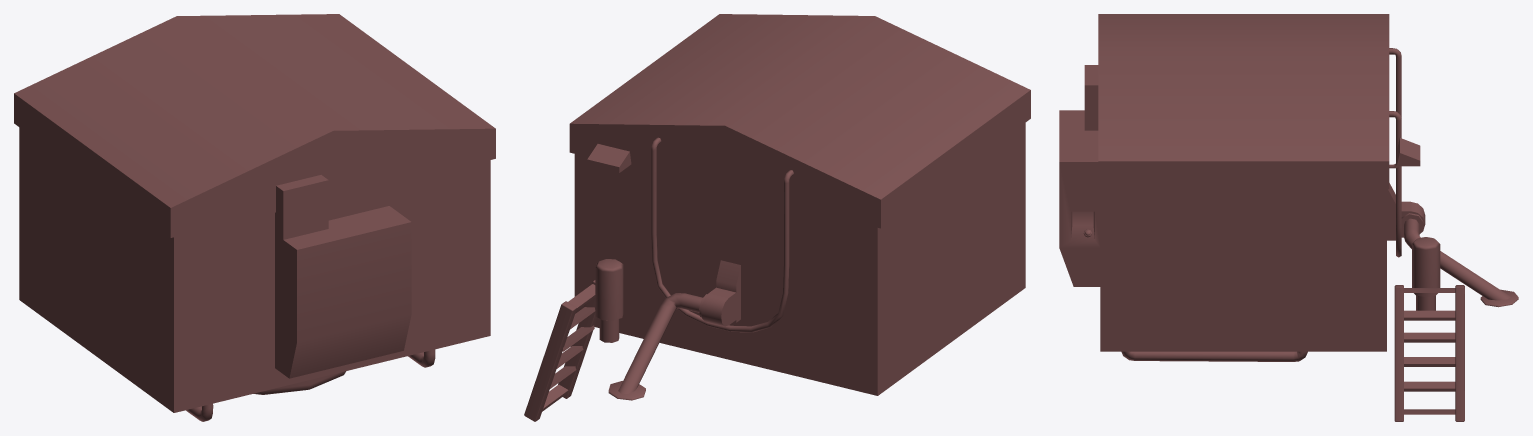
File: SM_Refueler_P2.fbx
3 views of the same model, side by side, from view 1: azimuth 30°, elevation 25°; view 2: azimuth 150°, elevation 25°; view 3: azimuth 270°, elevation 25° (orthographic). The views are drawn at different scales.
Visible parts, largest first — view 1: SM_Refueler_P2_LOD0; view 2: SM_Refueler_P2_LOD0; view 3: SM_Refueler_P2_LOD0.
Part boxes in pixels (x1,y1,x2,y2): SM_Refueler_P2_LOD0: (14,14,495,421); SM_Refueler_P2_LOD0: (524,14,1030,421); SM_Refueler_P2_LOD0: (1059,14,1518,421).
Size of what is drawn, in the model's own units: 290 by 266 by 374.
